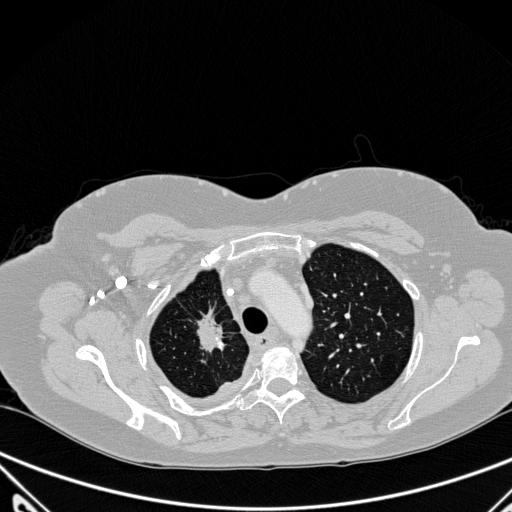nodule: (196, 320, 227, 351)
